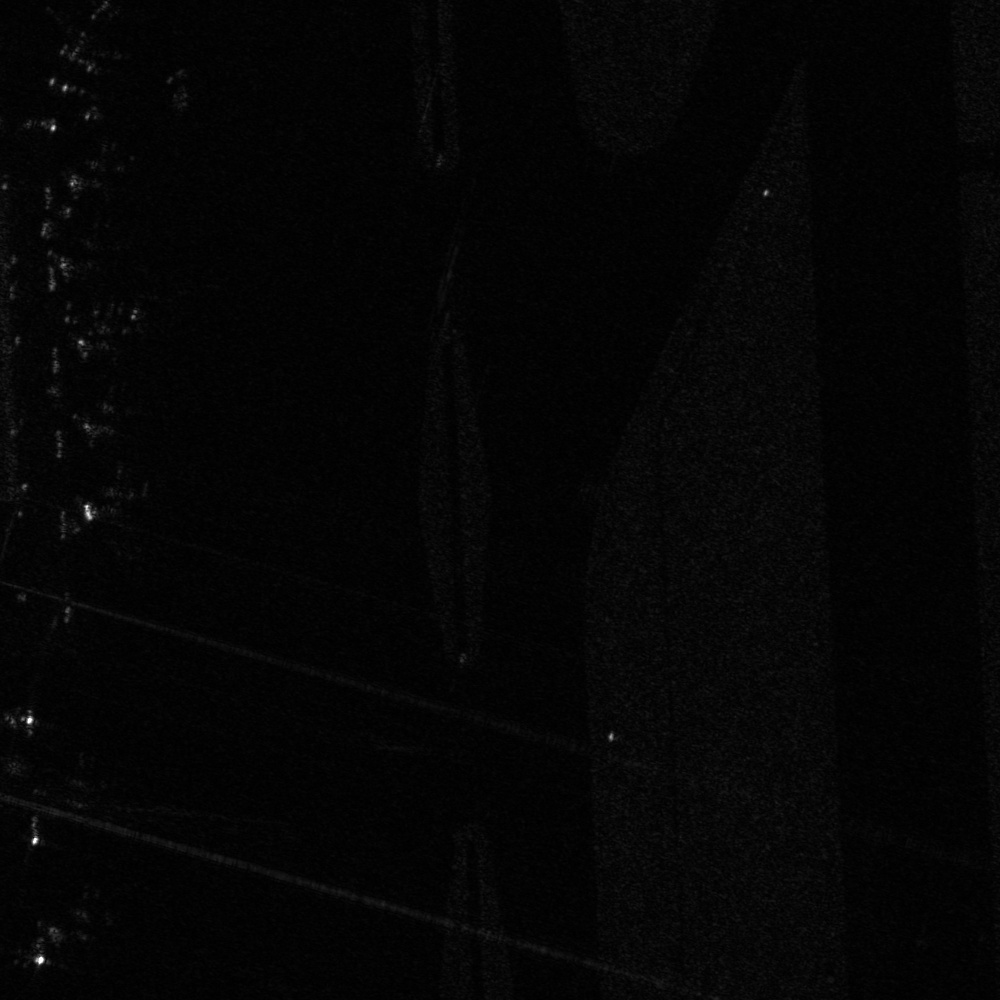A220: (36, 872, 144, 969), (73, 461, 154, 554), (77, 369, 154, 456), (73, 290, 151, 371)
